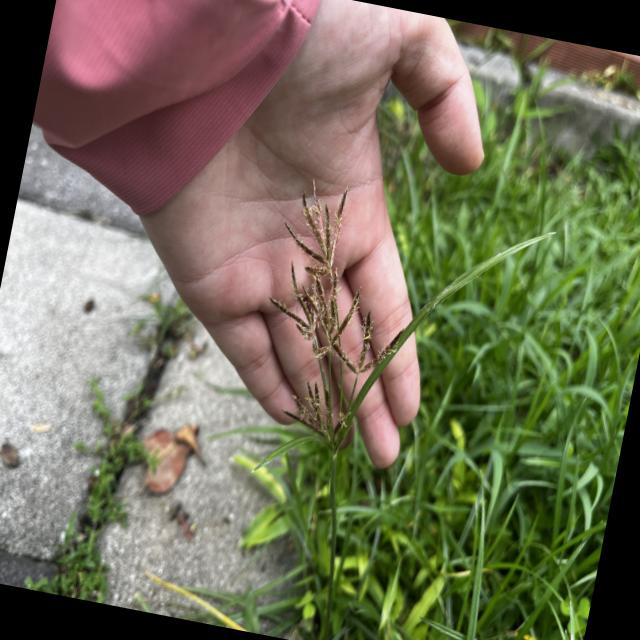cyperus: (242, 172, 431, 463)
